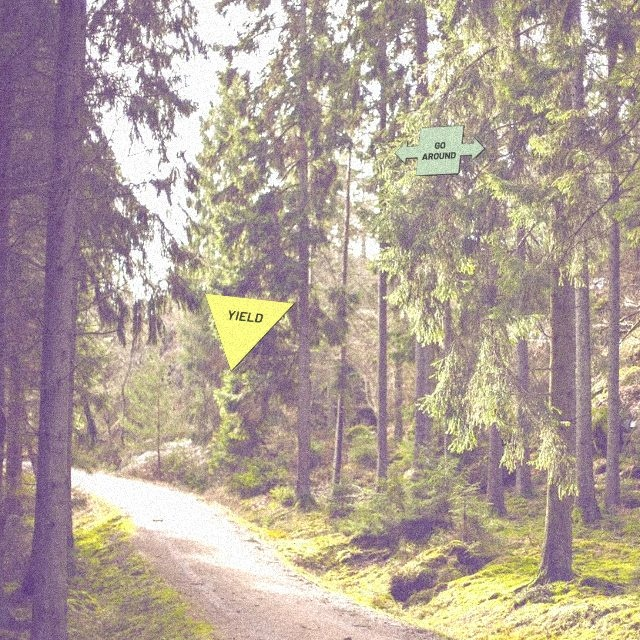GO_AROUND: (394, 125, 485, 176)
YIELD: (204, 293, 295, 372)
